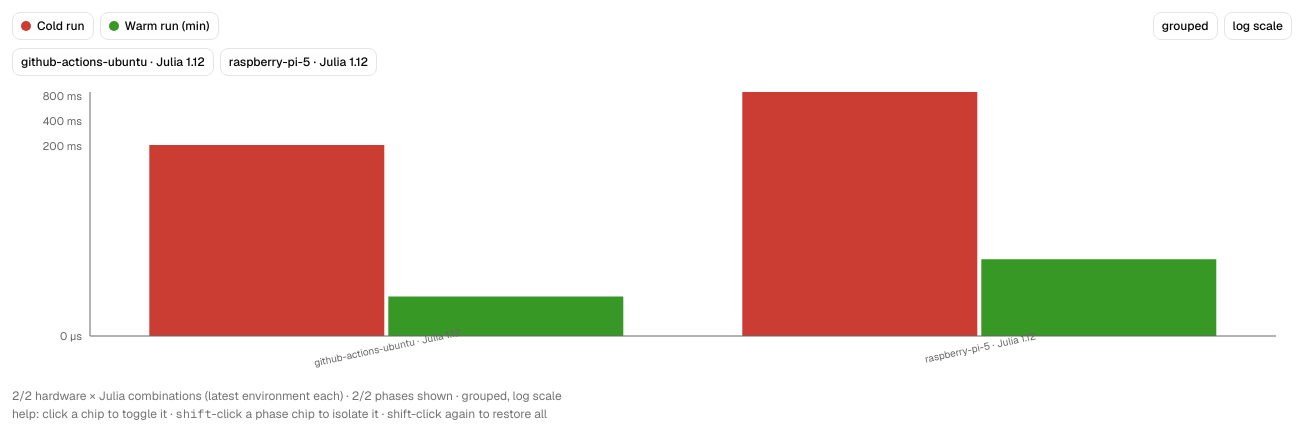
Test case: EnvironmentCompareChart › inherits the stacked/grouped and scale toggles
Expected: the text "grouped, log scale" is shown, [462,388,562,404]
Click the button "grouped".
click(1185, 26)  # box [1153,12,1218,40]
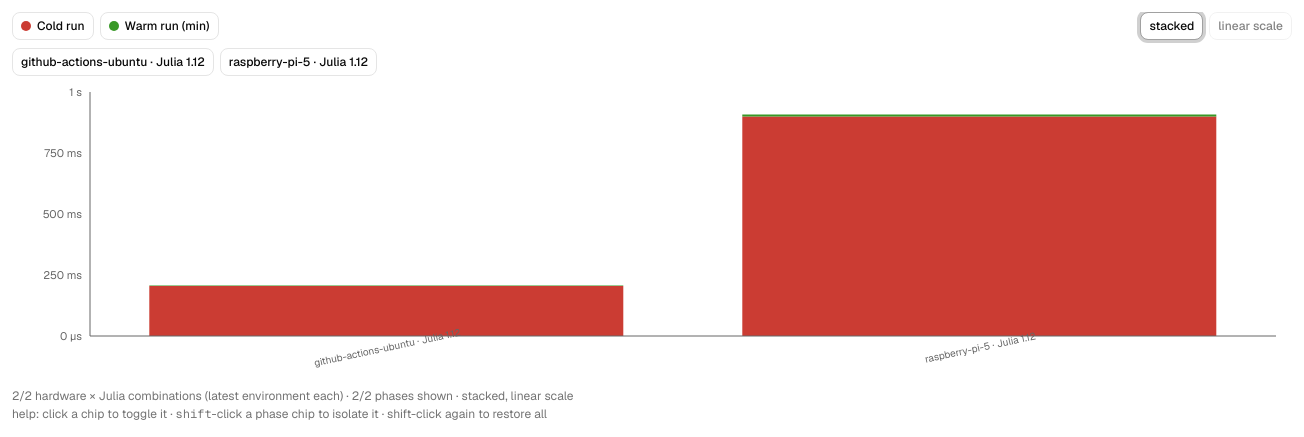
Result: the text "stacked, linear scale" is shown at [462,388,574,404]
